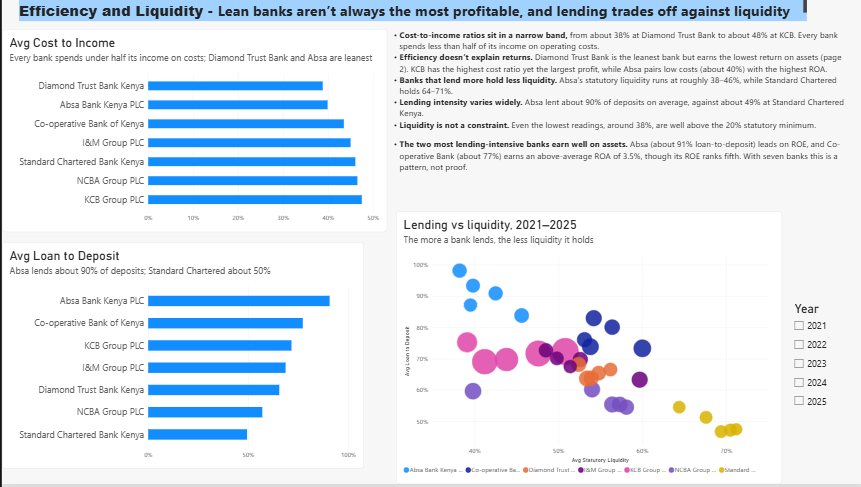

Layout of this report page (visuals, bound fields, positions):
{"tool":"powerbi","page":{"name":"Liquidity","canvas":[1920,1080],"ordinal":2},"visuals":[{"type":"textbox","box":[37.9,0,1757.2,46.8],"z":0},{"type":"clusteredBarChart","title":"Avg Cost to Income","fields":{"Category":["Working data.Bank"],"Y":["Working data.Avg Cost to Income"]},"box":[0,64.7,858.5,452.7],"z":1000},{"type":"scatterChart","title":"Lending vs liquidity, 2021–2025","fields":{"Category":["Working data.Year"],"Series":["Working data.Bank"],"Size":["Working data.Sum Assets"],"X":["Working data.Avg Statutory Liquidity"],"Y":["Working data.Avg Loan to Deposit"]},"box":[878.6,439.3,1014.6,640],"z":2000},{"type":"clusteredBarChart","title":"Avg Loan to Deposit","fields":{"Category":["Working data.Bank"],"Y":["Working data.Avg Loan to Deposit"]},"box":[0,539.7,807.2,506.2],"z":3000},{"type":"textbox","box":[858.5,64.7,1034.7,294.4],"z":4000}]}

Visuals, with their boxes in screenshot pixels (x1, y1, x2, y2), scaled from the page's 1920x1080 canvas onto the 861x487 screenshot:
textbox: 17, 0, 805, 21
"Avg Cost to Income" clusteredBarChart: 0, 29, 385, 233
"Lending vs liquidity, 2021–2025" scatterChart: 394, 198, 849, 486
"Avg Loan to Deposit" clusteredBarChart: 0, 243, 362, 472
textbox: 385, 29, 849, 162
